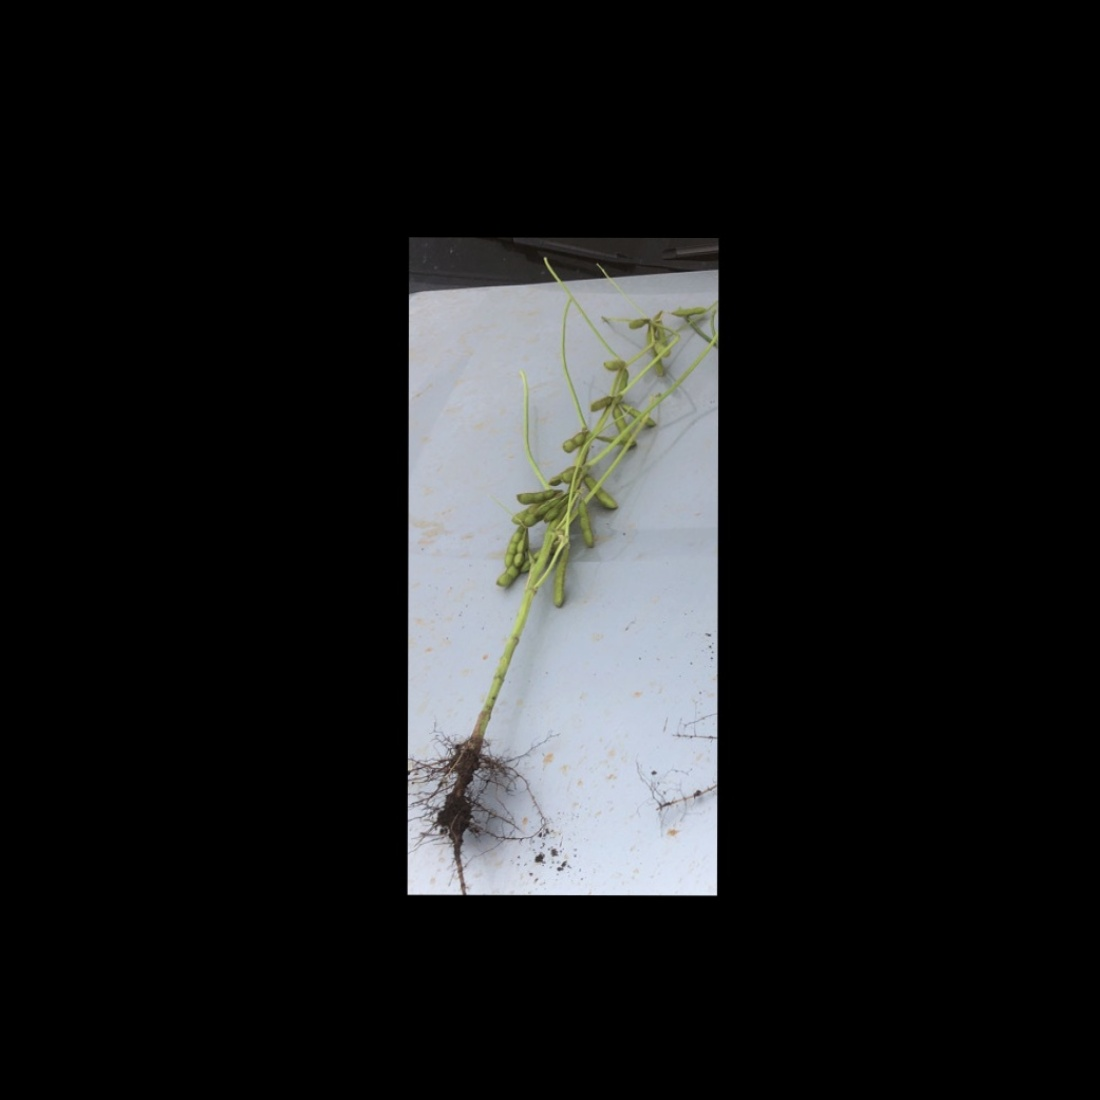pod: (581, 469, 622, 515), (571, 496, 596, 552), (553, 545, 573, 612), (618, 400, 659, 428), (515, 483, 563, 505), (556, 427, 589, 456), (667, 302, 712, 322), (587, 392, 618, 413), (598, 358, 627, 372)
soy: (422, 278, 712, 867)
